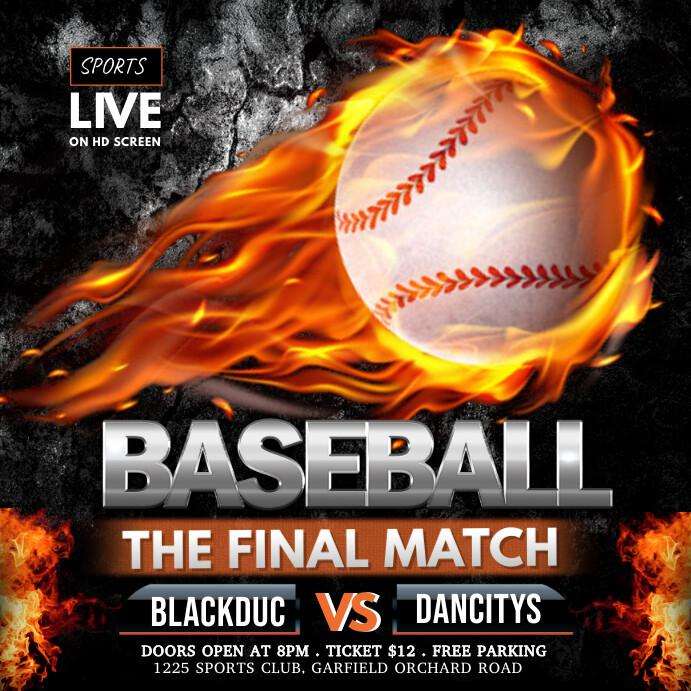baseball: (333, 51, 630, 362)
